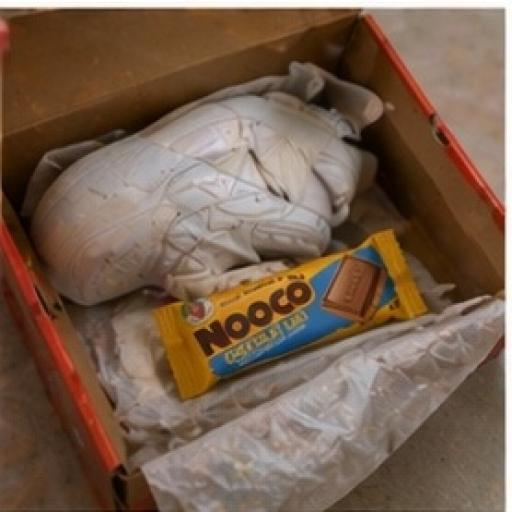nooco: (151, 220, 485, 436)
